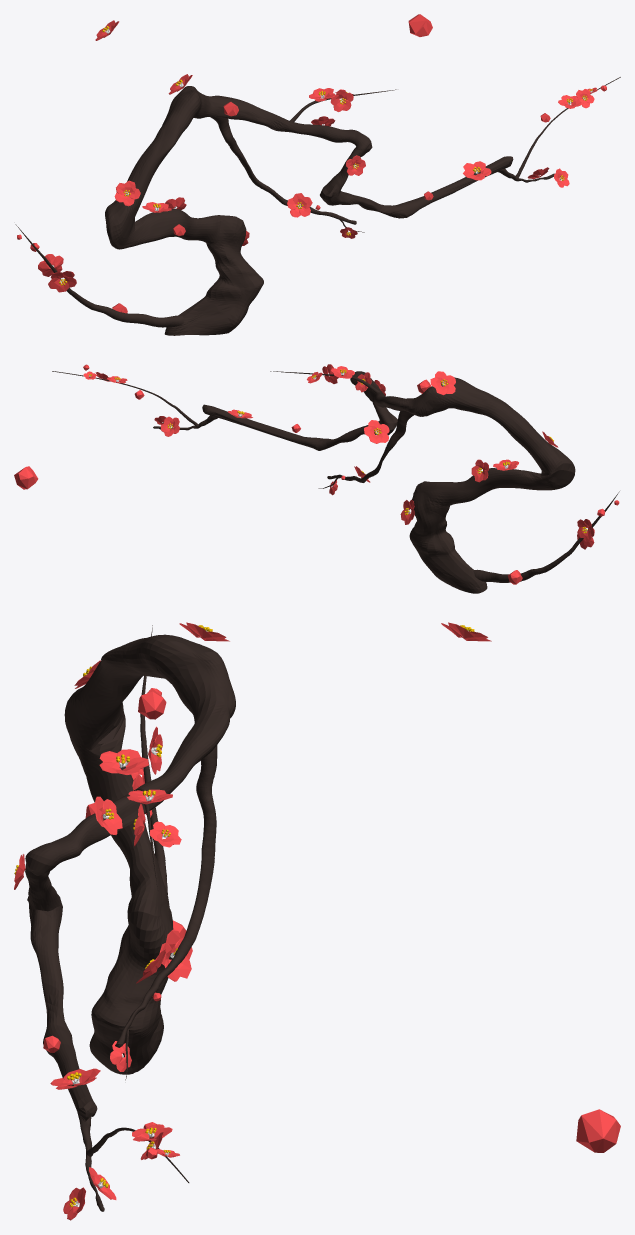
The model's file is smallplumtree.glb.
3 views of the same model, one above another, from view 1: azimuth 30°, elevation 25°; view 2: azimuth 150°, elevation 25°; view 3: azimuth 270°, elevation 25° (orthographic). The views are drawn at different scales.
Visible parts, largest first — view 1: trunk, BK_trunk, blossom, dot; view 2: trunk, BK_trunk, blossom, dot, BK_blossom, BK_dot; view 3: BK_trunk, blossom, trunk, BK_dot, dot.
Boxes of the visible parts, x1,y1,x2,y2 form: trunk: (18,77,620,335); BK_trunk: (16,77,620,327); blossom: (38,74,597,292); dot: (17,85,606,313); trunk: (52,371,617,593); BK_trunk: (53,371,617,593); blossom: (83,364,594,549); dot: (83,364,619,584); BK_blossom: (364,420,389,443); BK_dot: (14,466,38,489); BK_trunk: (25,627,235,1211); blossom: (14,622,229,1220); trunk: (25,625,229,1210); BK_dot: (576,1109,620,1152); dot: (43,688,186,1159).
Size of the model in its own units: 18.31 by 6.96 by 8.75.
